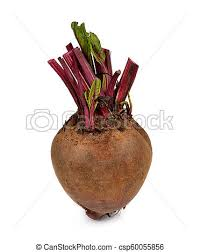beet: (48, 22, 153, 219)
